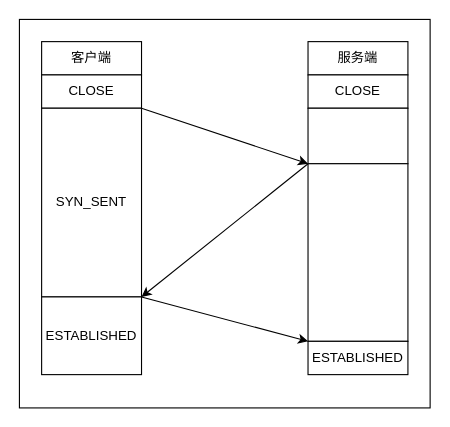
Image size: 450x427. Some labels were removed from this diagram. Here are the shapes that lost their labels. From the top down, the box of each, then its label:
(307, 107, 408, 164): LISTEN
(307, 163, 408, 341): SYN_RCVD
